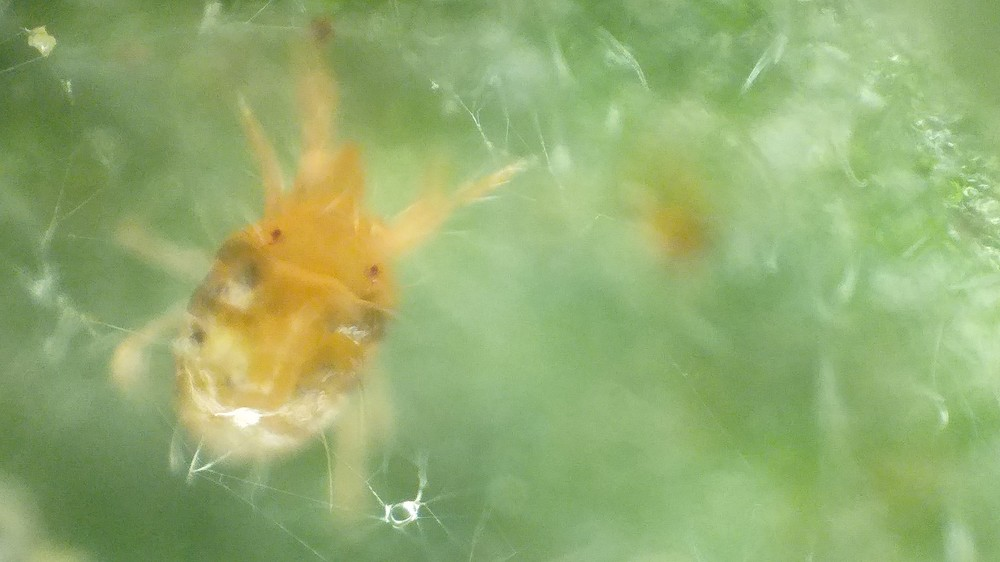Aracnido Rojo: (121, 83, 519, 522)
